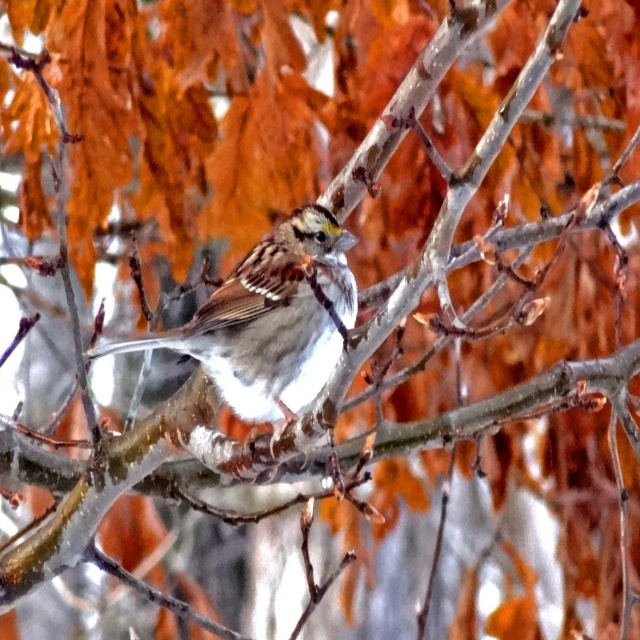Sparrow: (80, 198, 361, 459)
